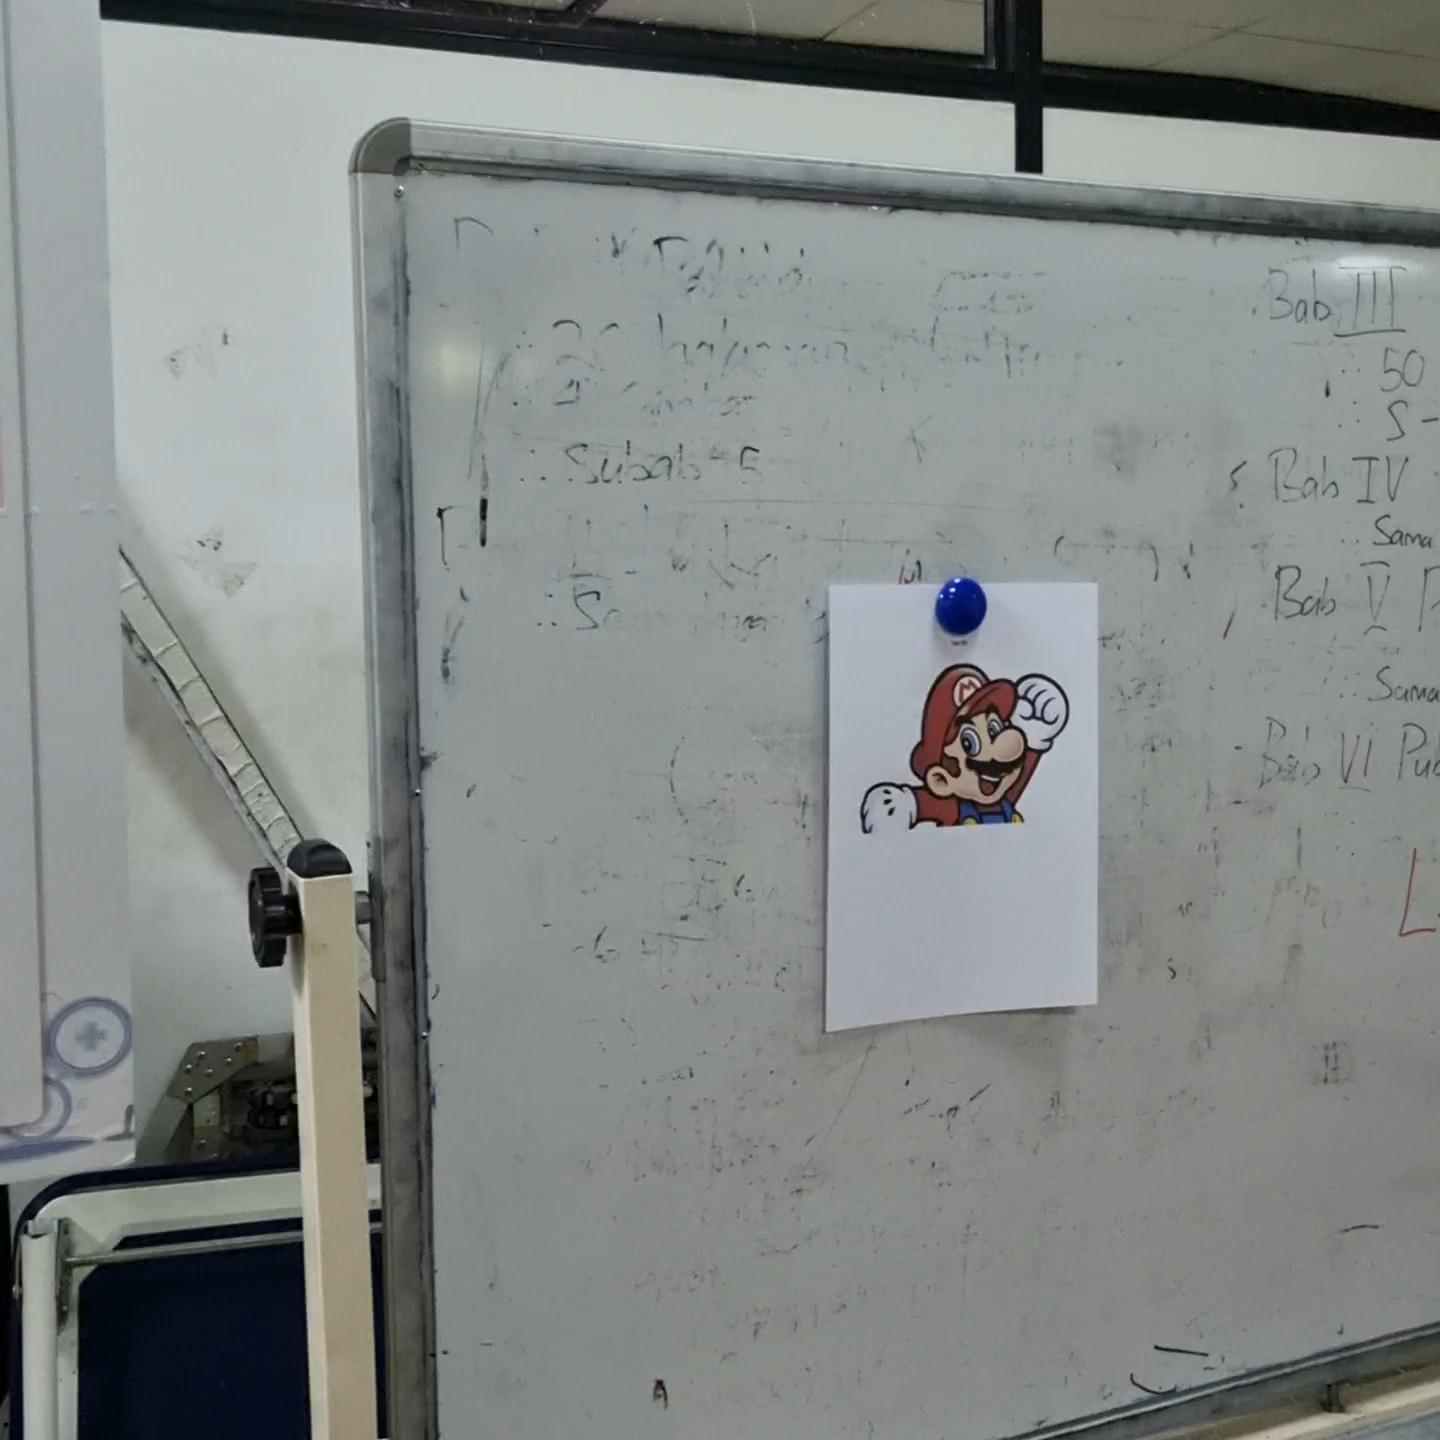mario: (851, 650, 1075, 845)
